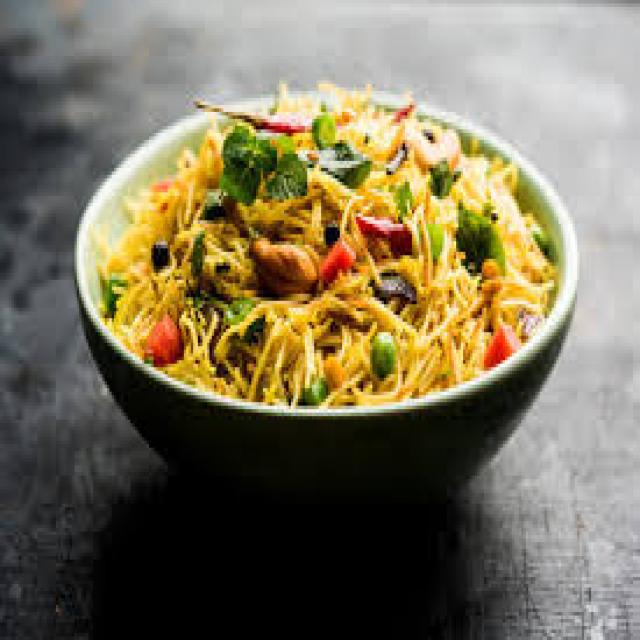POHA: (98, 84, 552, 395)
